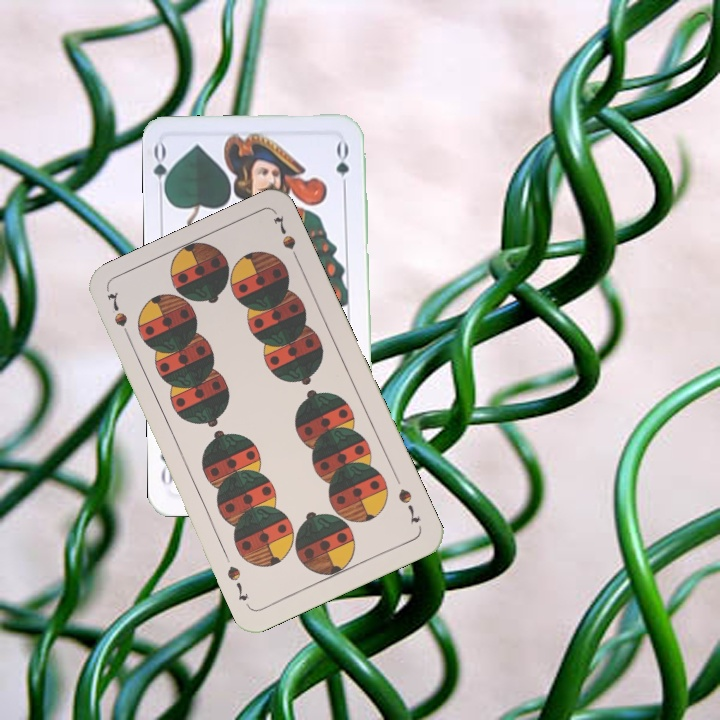GO: (149, 141, 176, 200)
S7: (103, 288, 134, 345), (394, 484, 422, 526)
